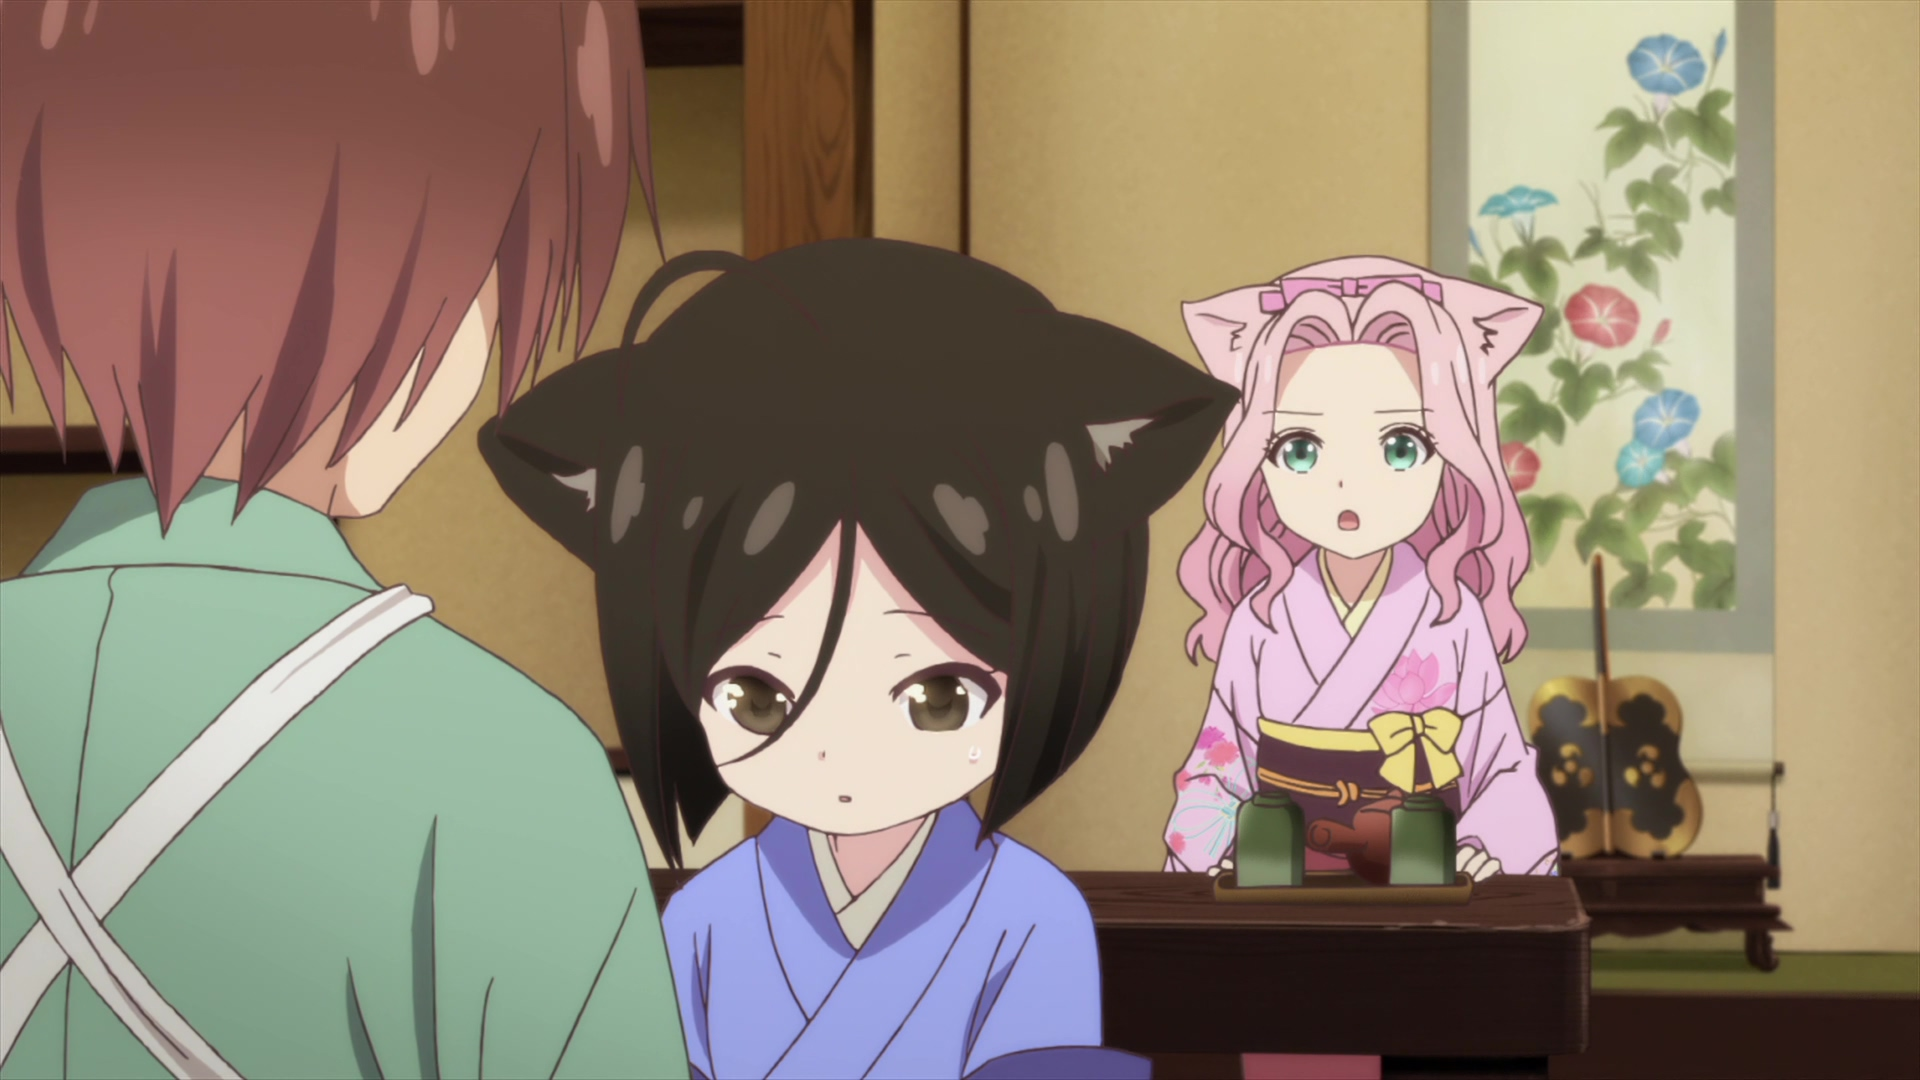其他: (473, 239, 1244, 1080)
枣: (1, 1, 684, 1080)
莲: (1163, 253, 1559, 891)
